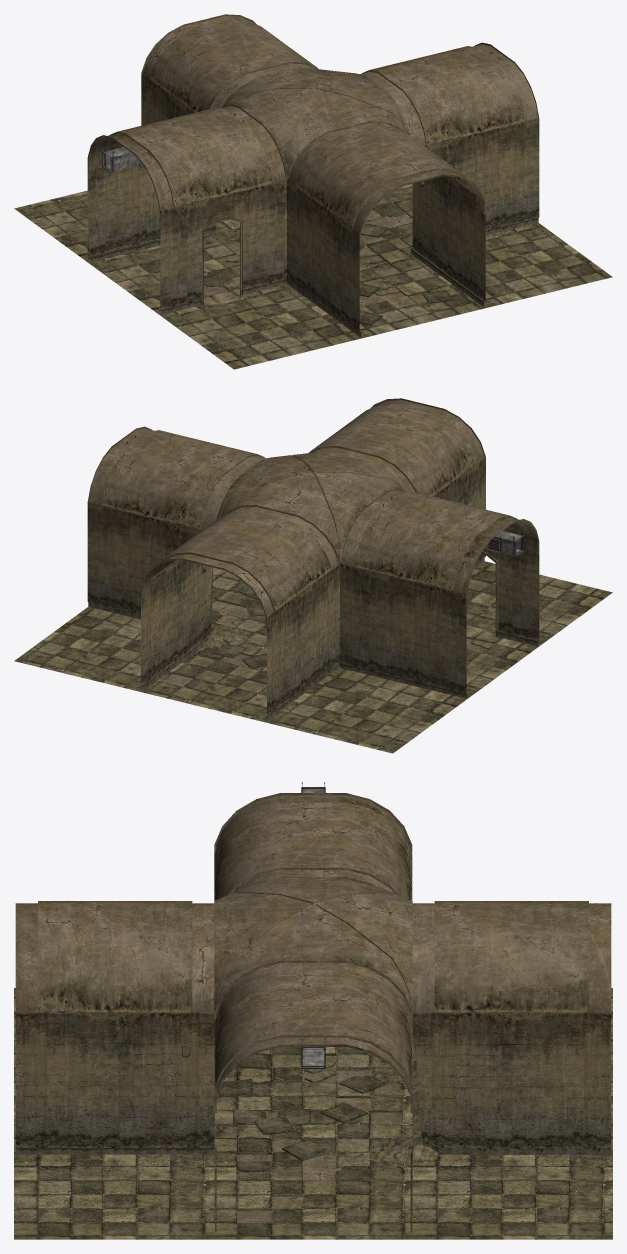
File: #LVL_Basement_cross.fbx
The picture shows the model from 3 angles, top to bottom: view 1: azimuth 30°, elevation 25°; view 2: azimuth 150°, elevation 25°; view 3: azimuth 270°, elevation 25°; orthographic projection. The views are drawn at different scales.
Parts seen in each view (by area): view 1: Cube_023; view 2: Cube_023; view 3: Cube_023.
Boxes of the visible parts, box(x1,y1,x2,y2) form: Cube_023: box(14, 14, 612, 369); Cube_023: box(14, 398, 612, 753); Cube_023: box(14, 782, 612, 1239).
Bounding box in the file's own units: 56.48 × 21.58 × 54.29.
